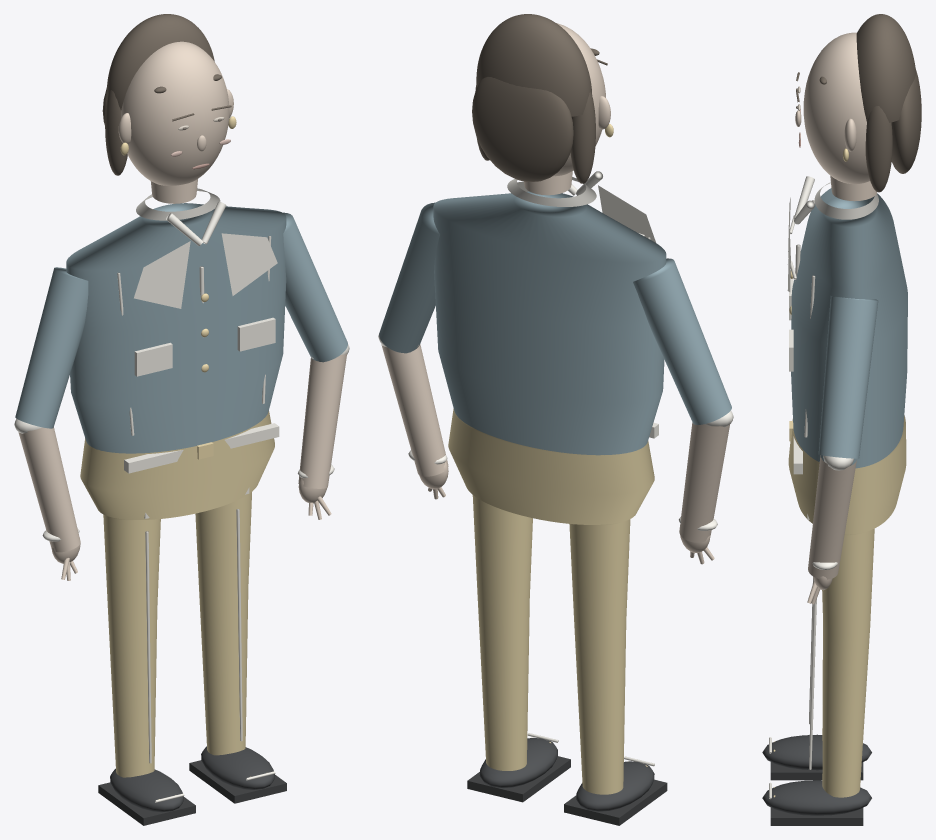
The model's file is default-relaxed.glb.
The picture shows the model from 3 angles, left to right: view 1: azimuth 30°, elevation 25°; view 2: azimuth 150°, elevation 25°; view 3: azimuth 270°, elevation 25°; orthographic projection. The views are drawn at different scales.
Visible parts, largest first — view 1: StyleFit Parametric Digital Human; view 2: StyleFit Parametric Digital Human; view 3: StyleFit Parametric Digital Human.
Part boxes in pixels (box(x1,y1,x2,y2)): StyleFit Parametric Digital Human: box(14, 14, 349, 825); StyleFit Parametric Digital Human: box(378, 14, 733, 825); StyleFit Parametric Digital Human: box(762, 14, 921, 825).
Bounding box in the file's own units: 1 × 2.17 × 0.4058.
